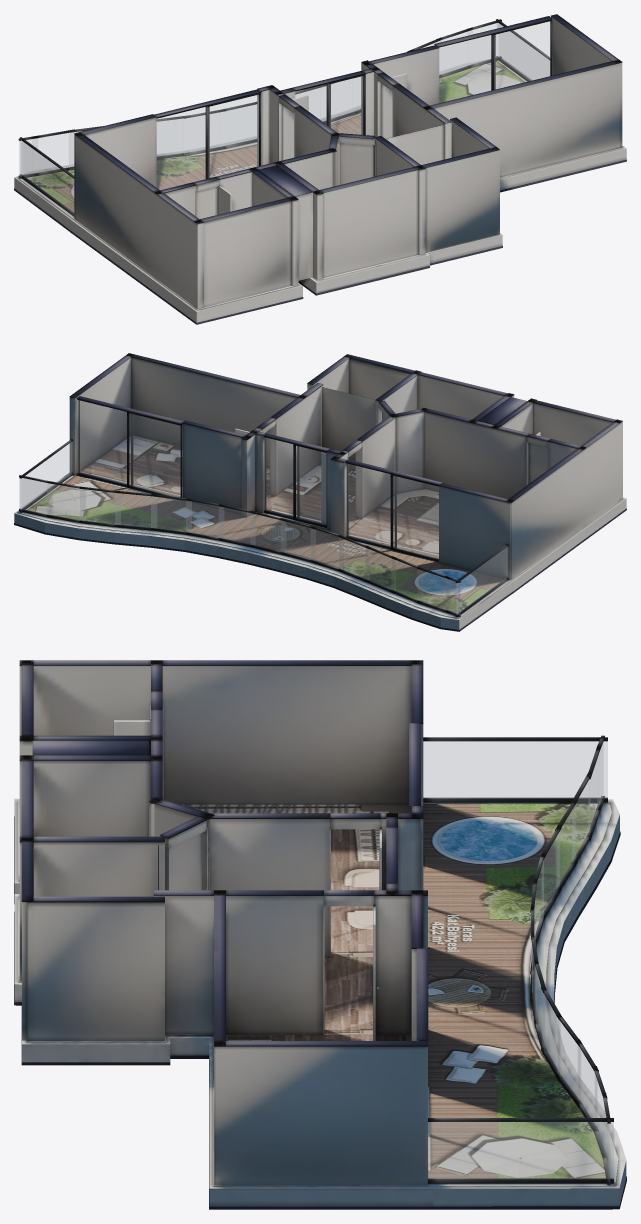
3 views of the same model, one above another, from view 1: azimuth 30°, elevation 25°; view 2: azimuth 150°, elevation 25°; view 3: azimuth 270°, elevation 25° (orthographic). The views are drawn at different scales.
Visible parts, largest first — view 1: plan, glass0_m, glass2_m, glass1_m, railg16_m, railg15_m, railg1_m, railg6_m, railg5_m, railg3_m, railg13_m, railg9_m (+2 smaller); view 2: plan, glass2_m, glass0_m, glass1_m, railg16_m, railg15_m, railg11_m, railg10_m, railg12_m, railg13_m, railg9_m, railg8_m (+9 smaller); view 3: plan, railg15_m, railg16_m, railg11_m, railg10_m, railg4_m, railg2_m, railg12_m, railg3_m.
Boxes of the visible parts, box(x1,y1,x2,y2) form: plan: box(14, 14, 626, 324); glass0_m: box(157, 95, 258, 189); glass2_m: box(439, 21, 549, 102); glass1_m: box(295, 76, 362, 134); railg16_m: box(21, 141, 73, 212); railg15_m: box(497, 23, 549, 80); railg1_m: box(32, 132, 74, 172); railg6_m: box(226, 105, 254, 145); railg5_m: box(184, 113, 219, 153); railg3_m: box(157, 119, 182, 156); railg13_m: box(437, 30, 472, 74); railg9_m: box(331, 79, 351, 118); plan: box(14, 353, 626, 631); glass2_m: box(78, 400, 180, 497); glass0_m: box(346, 464, 438, 558); glass1_m: box(264, 437, 326, 524); railg16_m: box(456, 547, 507, 614); railg15_m: box(20, 442, 71, 509); railg11_m: box(115, 493, 156, 527); railg10_m: box(151, 496, 191, 532); railg12_m: box(80, 489, 120, 524); railg13_m: box(47, 483, 85, 520); railg9_m: box(186, 501, 223, 538); railg8_m: box(219, 507, 255, 544); plan: box(14, 660, 626, 1209); railg15_m: box(428, 1122, 613, 1178); railg16_m: box(423, 741, 607, 798); railg11_m: box(557, 1018, 580, 1103); railg10_m: box(542, 992, 560, 1076); railg4_m: box(557, 805, 575, 888); railg2_m: box(572, 780, 590, 862); railg12_m: box(578, 1046, 596, 1125); railg3_m: box(542, 832, 559, 916).
Size of the model in its own units: 13.58 by 2.62 by 9.02.
2 materials, 1 textured.
